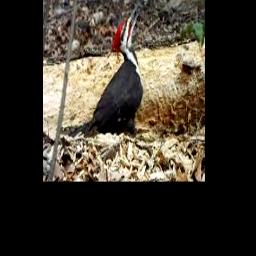Woodpecker: (68, 5, 143, 138)
